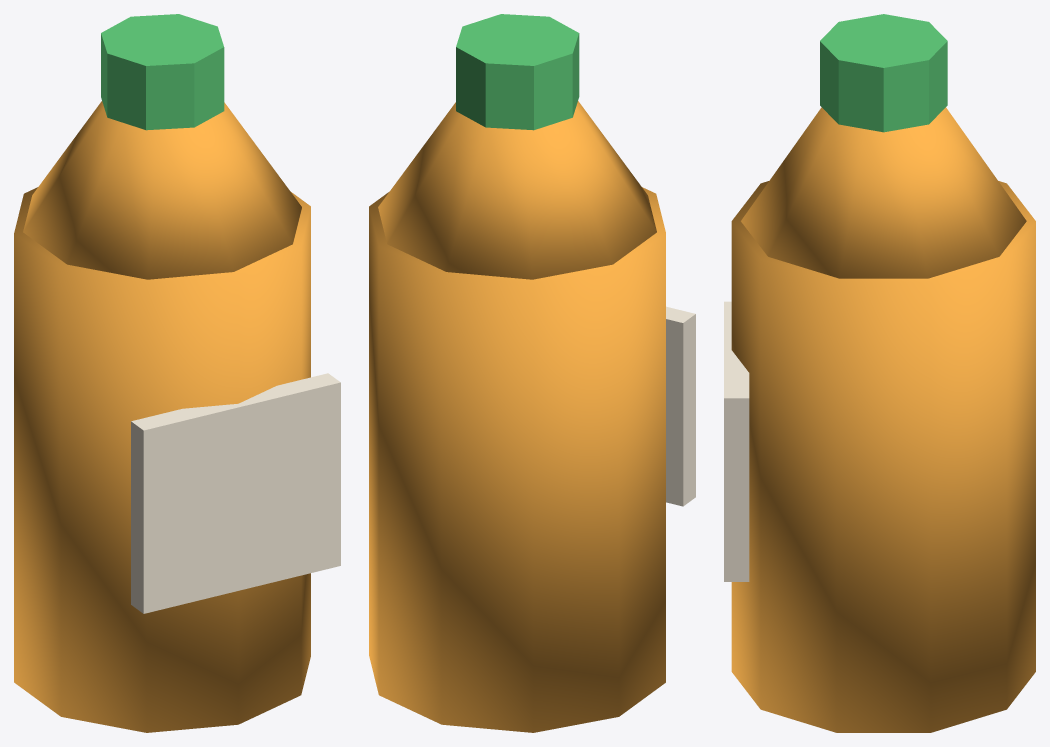
File: good_juice.glb
3 renders of one model, left to right at view 1: azimuth 30°, elevation 25°; view 2: azimuth 150°, elevation 25°; view 3: azimuth 270°, elevation 25°, orthographic.
Parts seen in each view (by area): view 1: good_juice; view 2: good_juice; view 3: good_juice.
Part boxes in pixels (x1,y1,x2,y2): good_juice: (14,14,340,732); good_juice: (369,14,695,732); good_juice: (724,14,1035,732).
Size of the model in its own units: 0.1141 by 0.2744 by 0.123.
